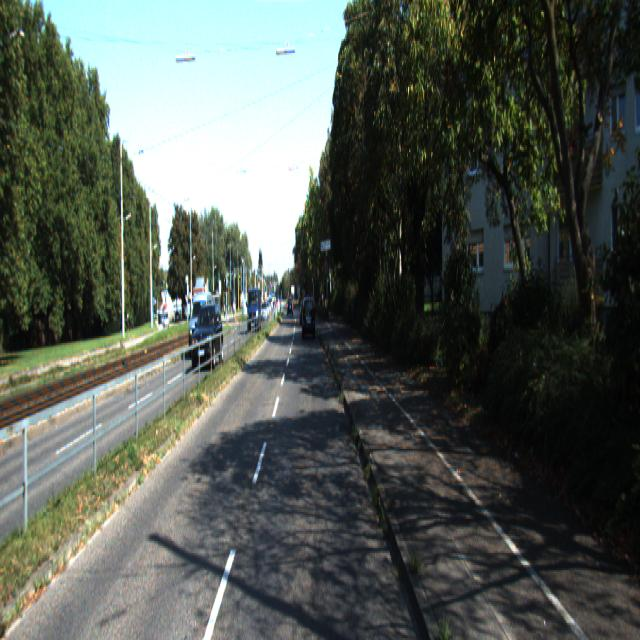Car: (191, 301, 225, 372), (303, 299, 316, 343)
DontCare: (263, 292, 278, 326), (286, 294, 294, 316)
Van: (188, 290, 216, 358), (247, 288, 262, 336)
